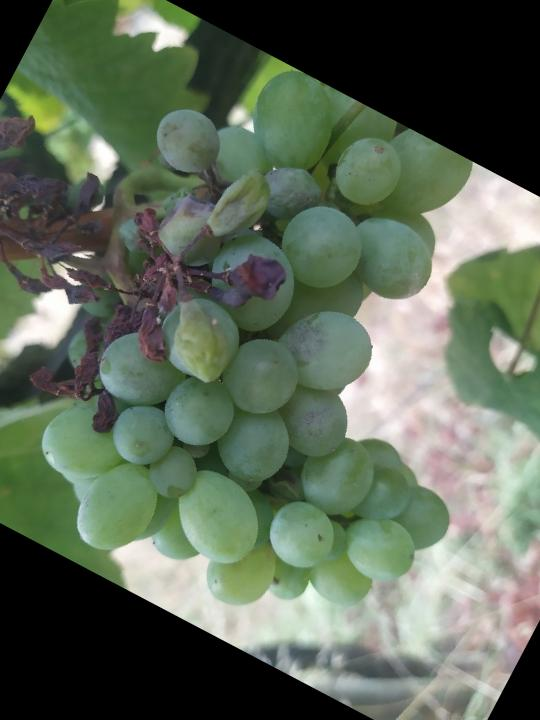grape: (0, 0, 540, 694)
